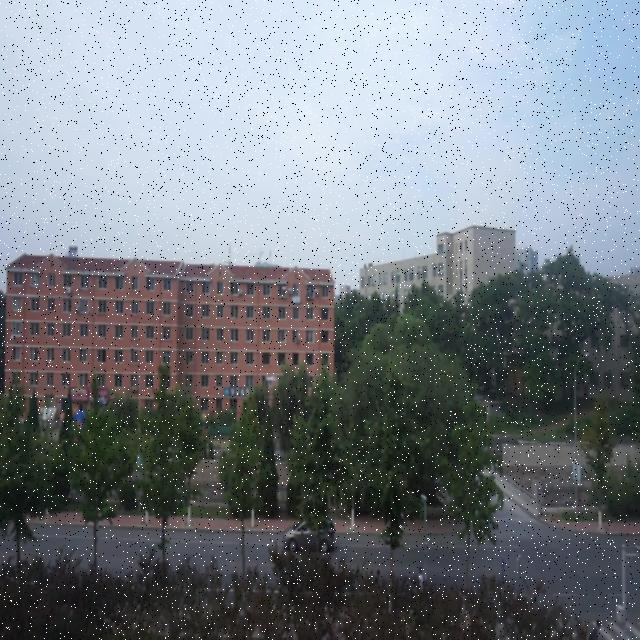UAV: (265, 376, 278, 387)
